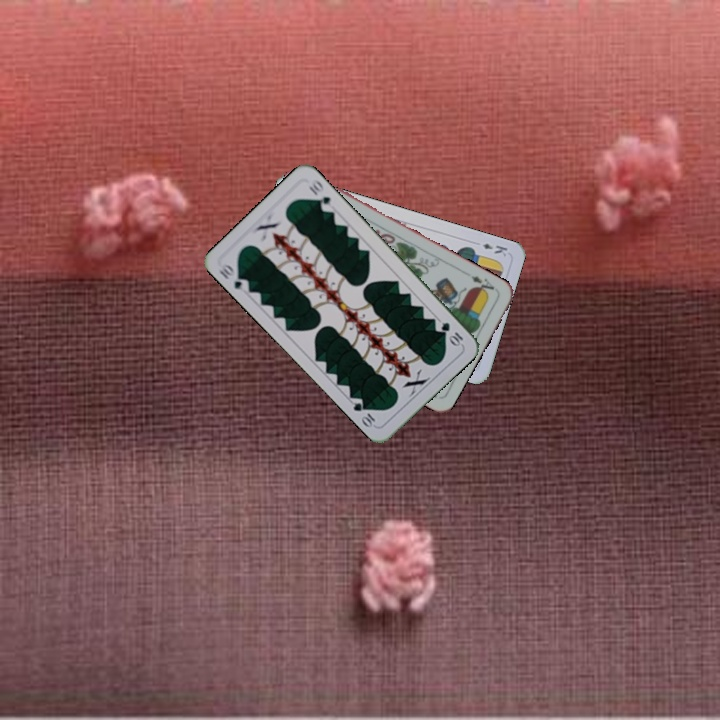EA: (467, 271, 497, 297)
EK: (478, 239, 510, 259)
G10: (215, 259, 252, 295), (437, 318, 466, 349)
